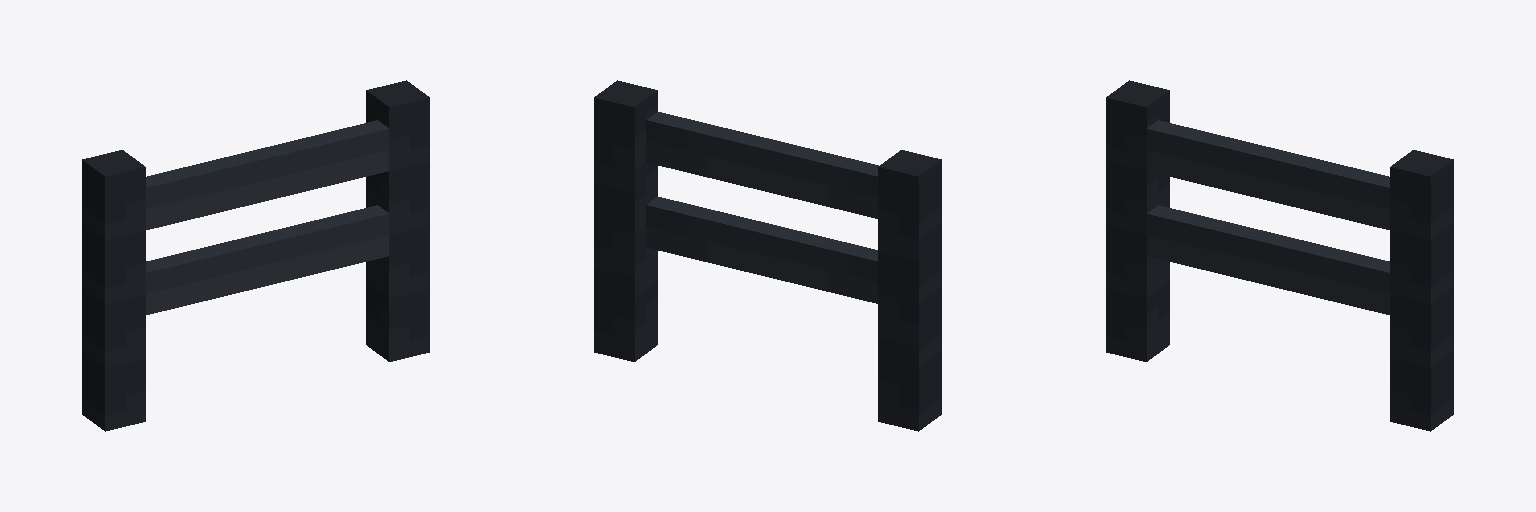
3 views of the same model, side by side, from view 1: azimuth 30°, elevation 25°; view 2: azimuth 150°, elevation 25°; view 3: azimuth 330°, elevation 25° (orthographic).
Parts seen in each view (by area): view 1: cube; view 2: cube; view 3: cube.
Boxes of the visible parts, x1=… form: cube: x1=82, y1=80, x2=429, y2=431; cube: x1=594, y1=80, x2=941, y2=431; cube: x1=1106, y1=80, x2=1453, y2=431.
Bounding box in the file's own units: 1 × 0.75 × 0.125.
1 materials, 1 textured.